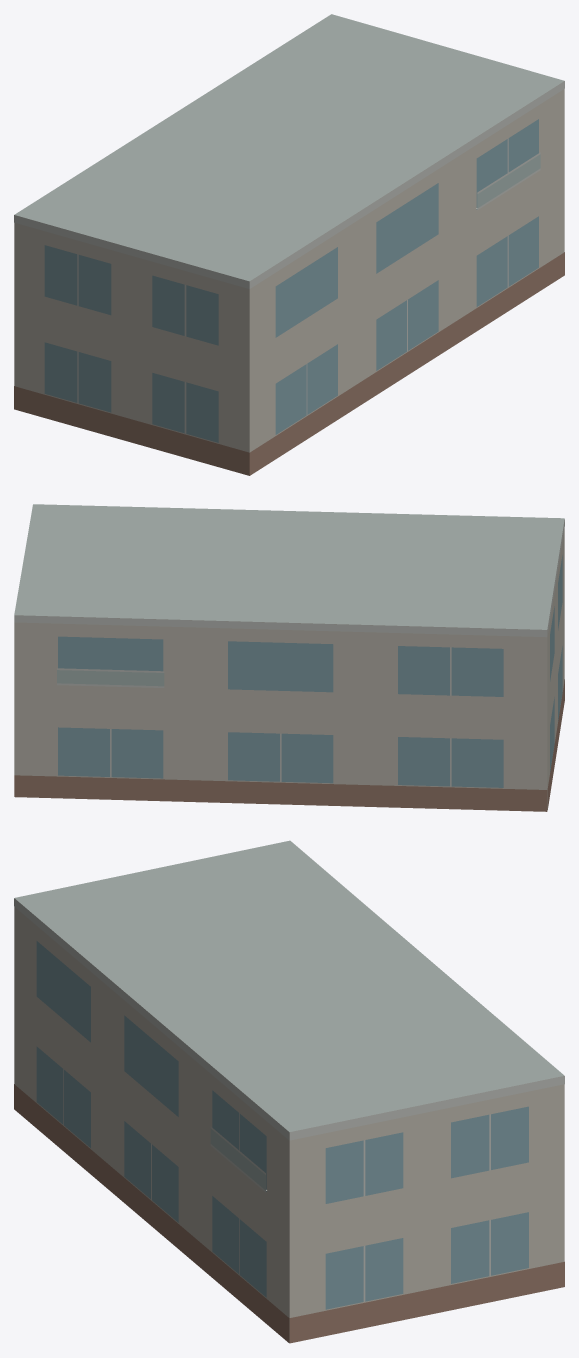
Rendered from survey-upis-32704799.glb.
The picture shows the model from 3 angles, top to bottom: view 1: azimuth 30°, elevation 25°; view 2: azimuth 150°, elevation 25°; view 3: azimuth 270°, elevation 25°; orthographic projection. The views are drawn at different scales.
Parts seen in each view (by area): view 1: survey-upis-32704799.tmp; view 2: survey-upis-32704799.tmp; view 3: survey-upis-32704799.tmp.
Part boxes in pixels (left/top/right/bottom): survey-upis-32704799.tmp: left=14, top=14, right=564, bottom=475; survey-upis-32704799.tmp: left=14, top=504, right=564, bottom=811; survey-upis-32704799.tmp: left=14, top=840, right=564, bottom=1343.
Size of the model in its own units: 18.08 by 6.1 by 14.42.
